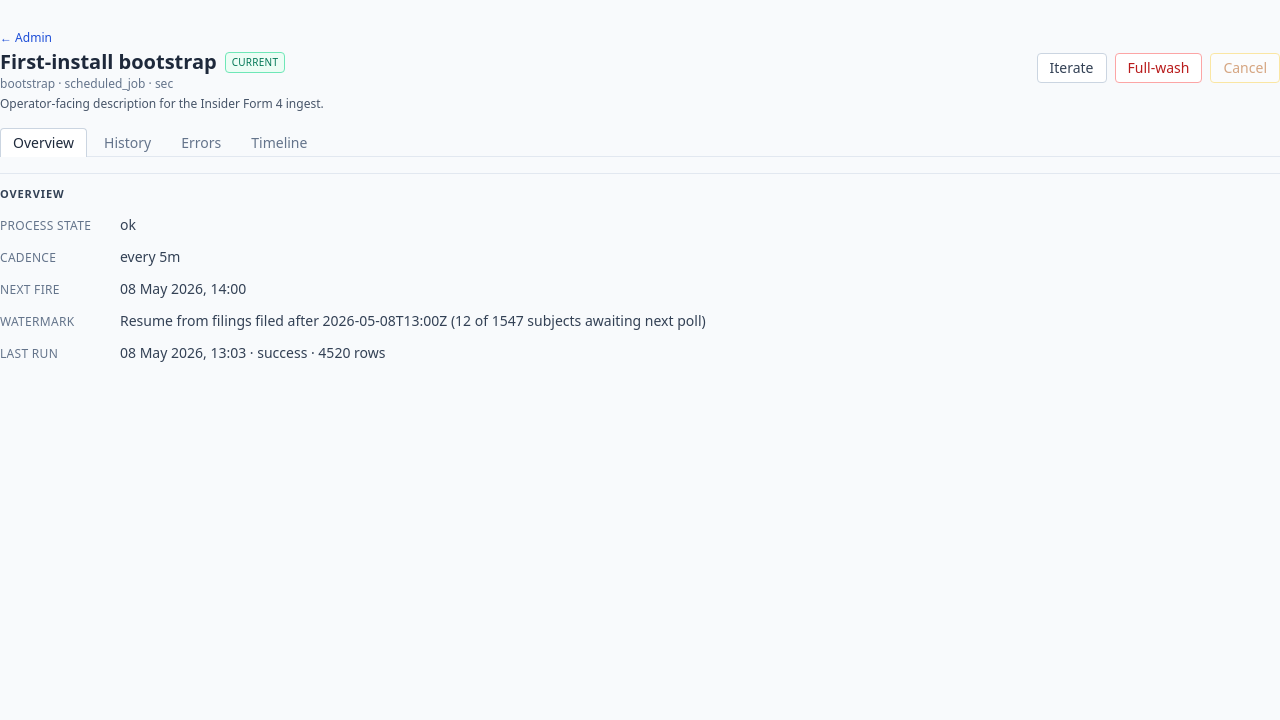
ProcessDetailPage — Timeline tab (bootstrap) › opens the archive-detail modal when an archive square is clicked
Click the tab "Timeline".
click(279, 142)  # box [238,128,320,157]
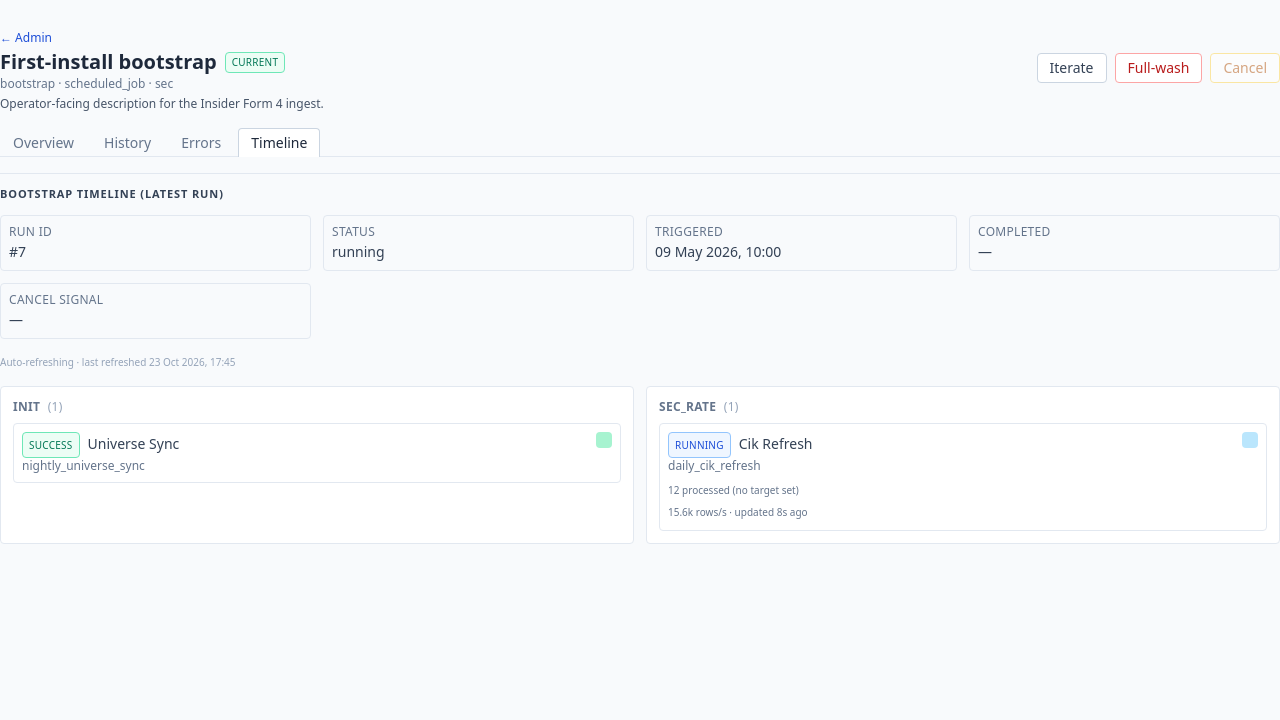
Click the button named "Open archive detail: cik_index_2026Q2.zip".
click(1250, 440)  # box [1242,432,1258,448]
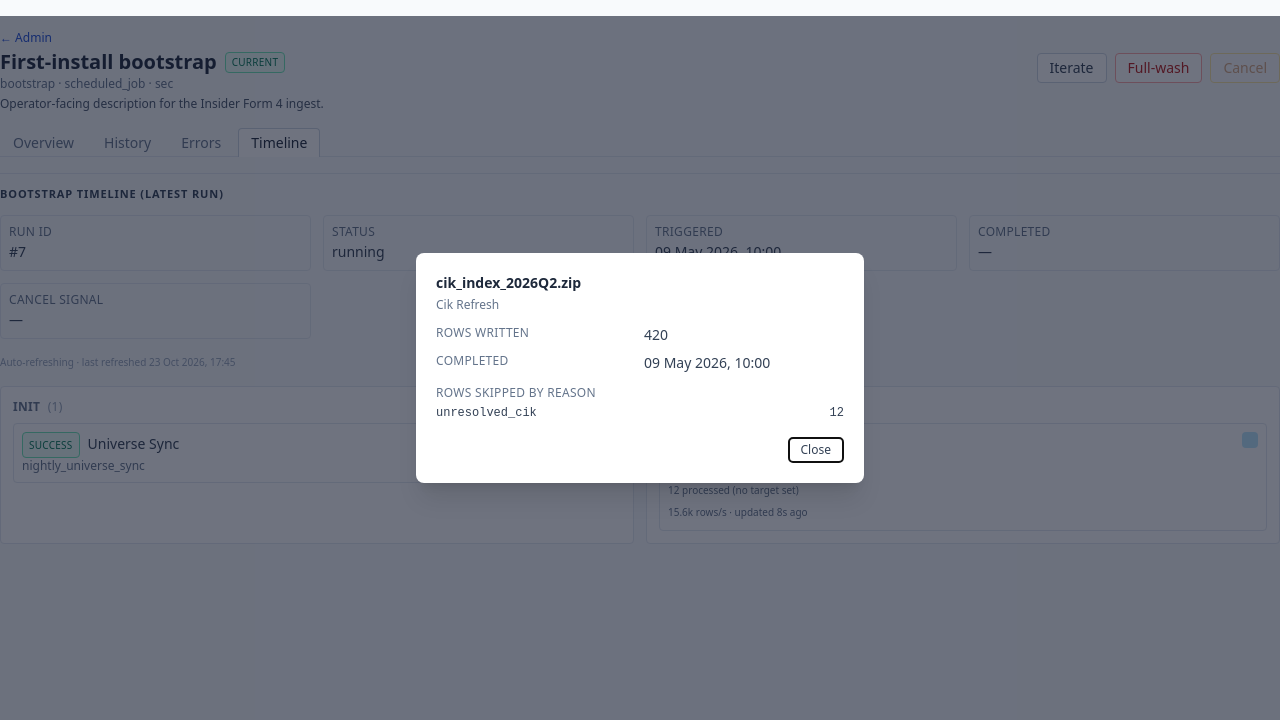
Result: the dialog shows "cik_index_2026Q2.zip" at [436,273,581,292]
Result: the dialog shows "unresolved_cik" at [436,406,537,420]
